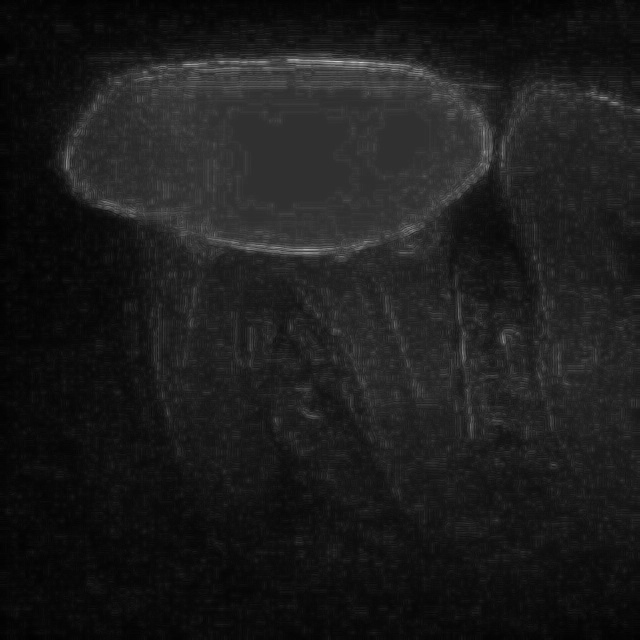Class 2- incomplete endodontic treatment: (45, 52, 550, 556)
